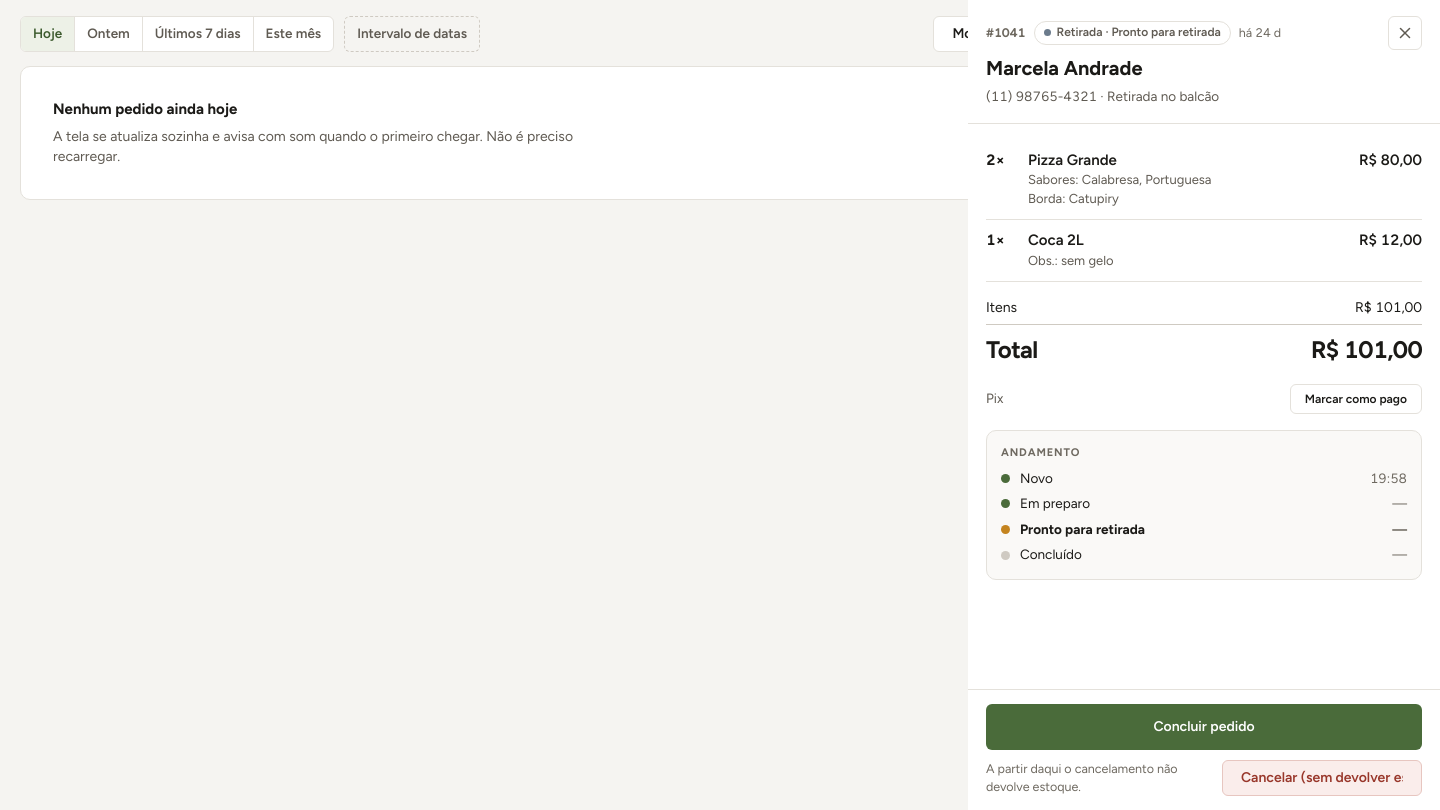
OrderDrawer › depois de pronto, cancelar NÃO devolve — e o texto avisa
Click the button "Cancelar (sem devolver estoque)": (1322, 778) x1=1222 y1=760 x2=1422 y2=796
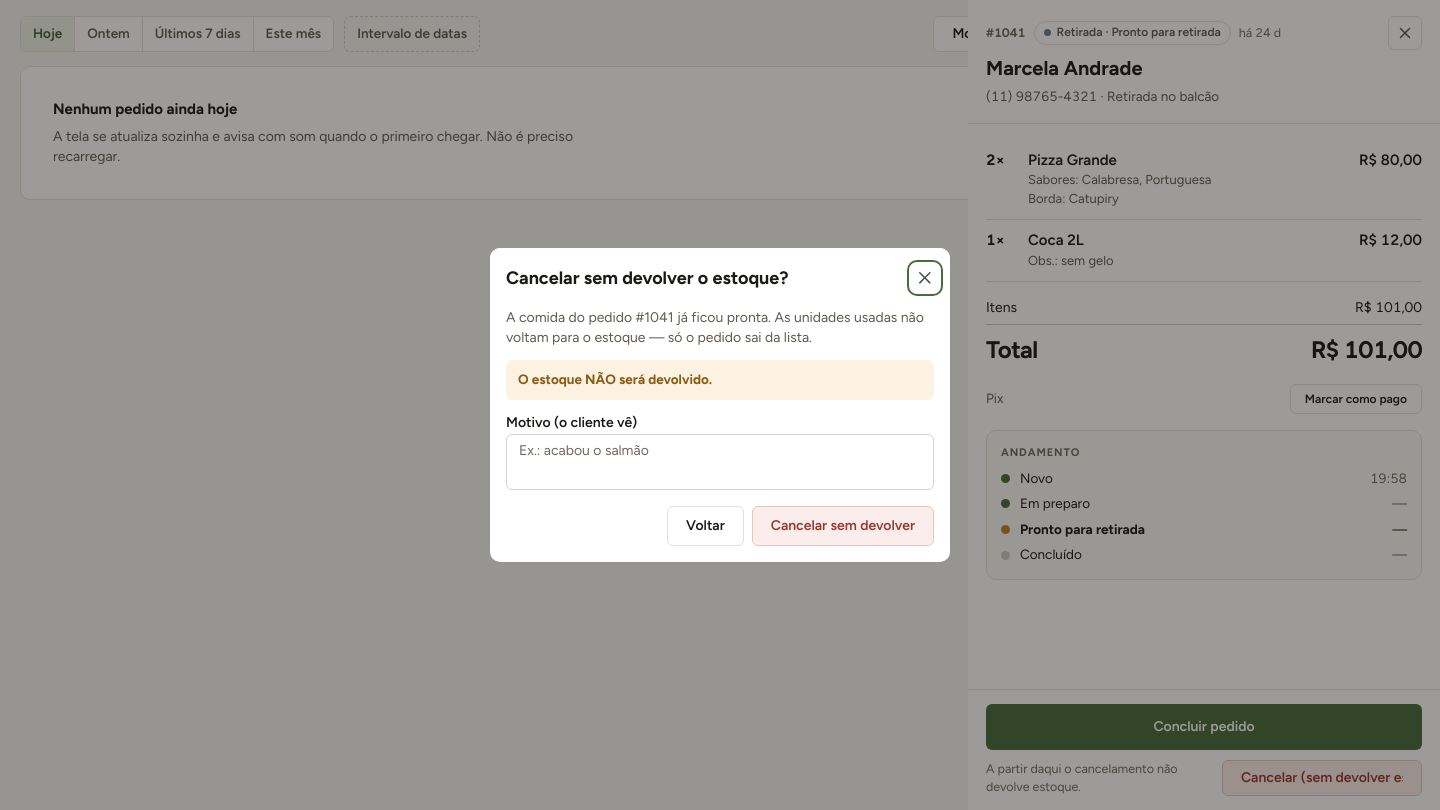
Check: the text "O estoque NÃO será devolvido." is shown, box x1=506 y1=360 x2=934 y2=400
